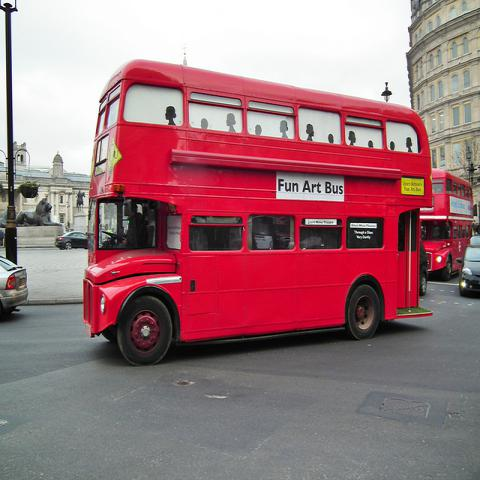bus: (82, 56, 434, 369), (420, 168, 473, 274)
car: (0, 256, 28, 318), (455, 245, 479, 298), (54, 231, 88, 250), (420, 240, 428, 295)
